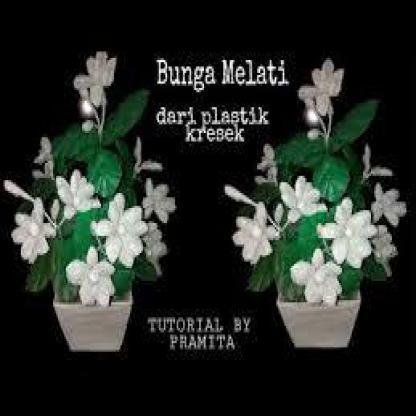Melati: (215, 177, 350, 314), (3, 119, 98, 267), (279, 170, 382, 265), (55, 36, 128, 141), (287, 55, 377, 130), (130, 128, 172, 278), (363, 149, 405, 278), (90, 192, 159, 265), (59, 250, 117, 310), (48, 164, 104, 224), (253, 143, 282, 190)
